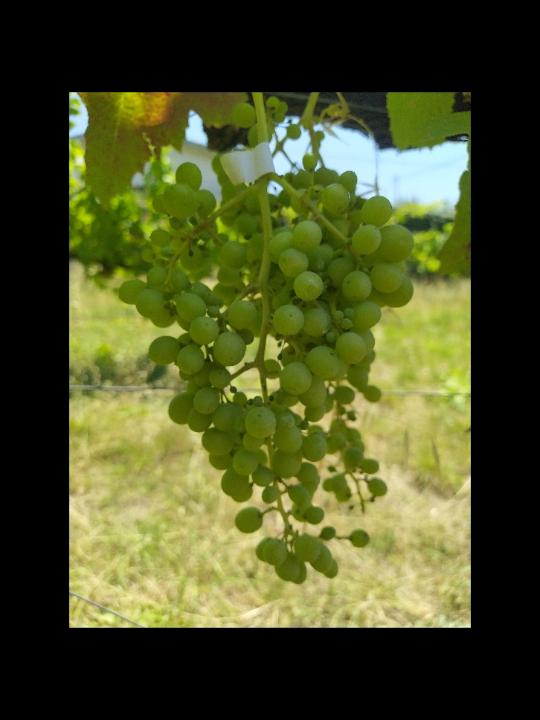grape: (113, 152, 417, 589)
